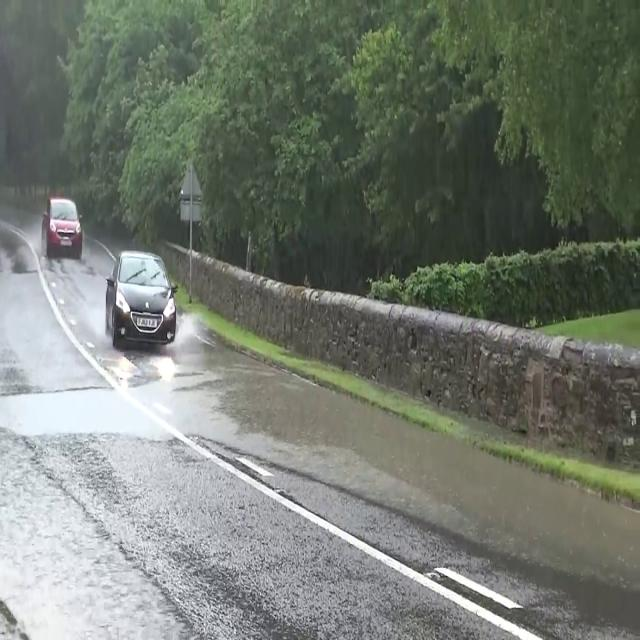license-plate-annotation: (135, 312, 164, 329)
